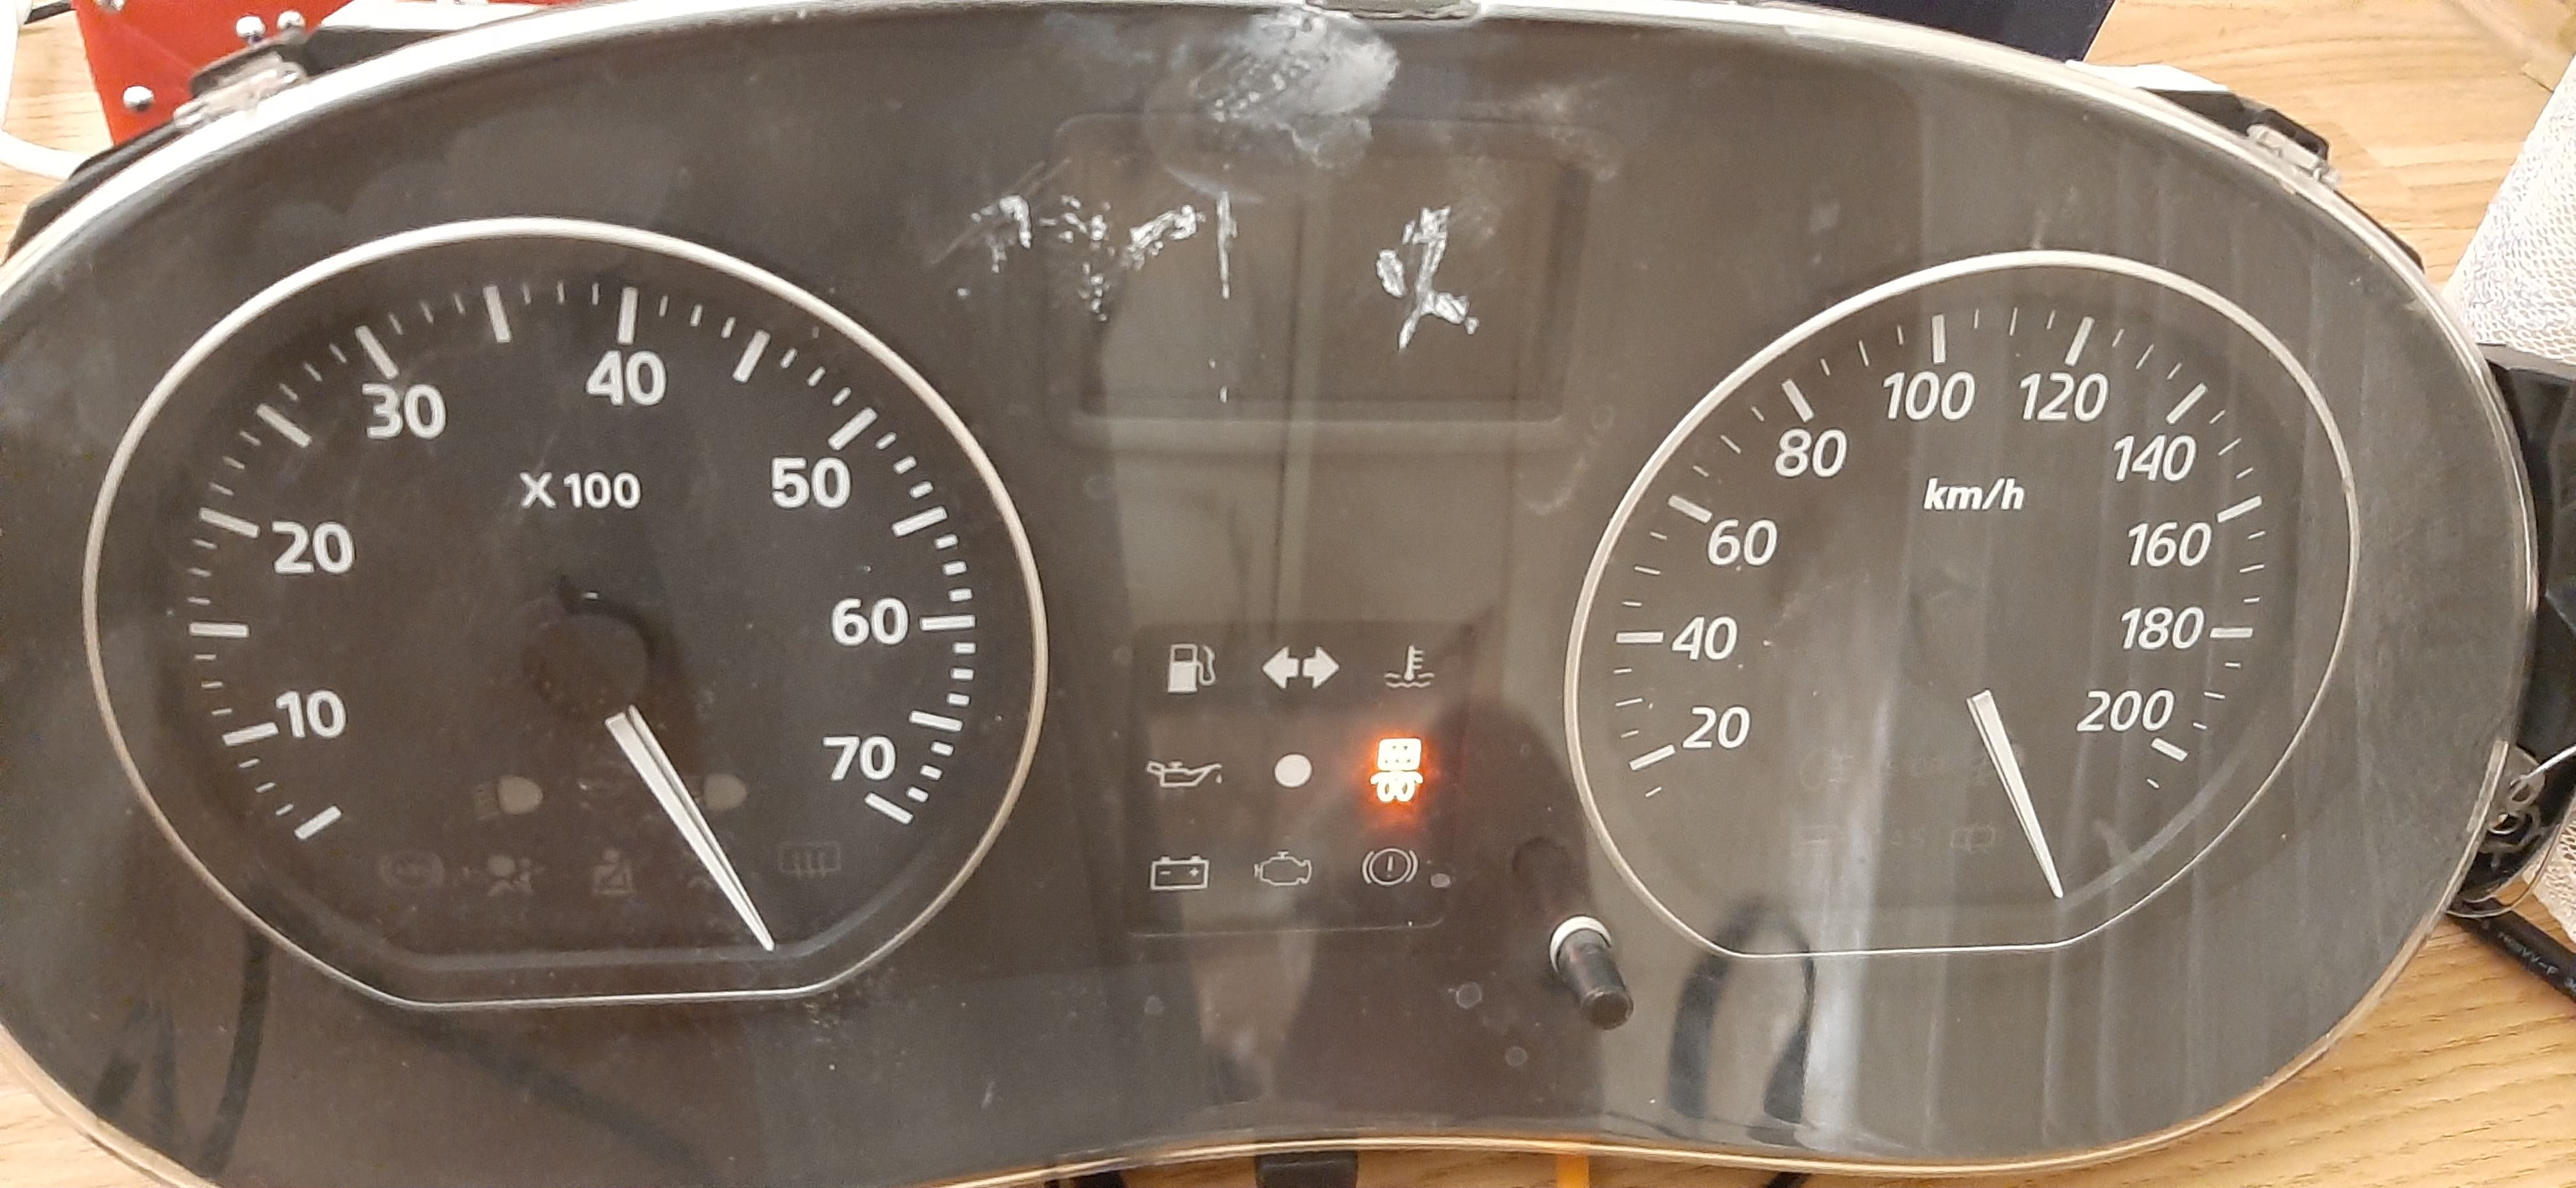diesel6: (1372, 734, 1428, 807)
